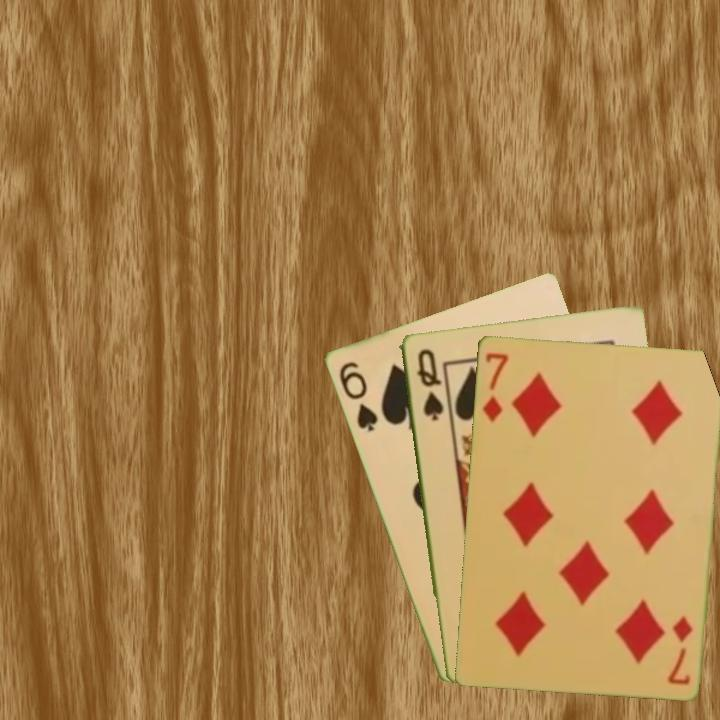6s: (335, 357, 380, 434)
7d: (479, 349, 511, 424), (664, 612, 695, 687)
Qs: (413, 345, 445, 423)
